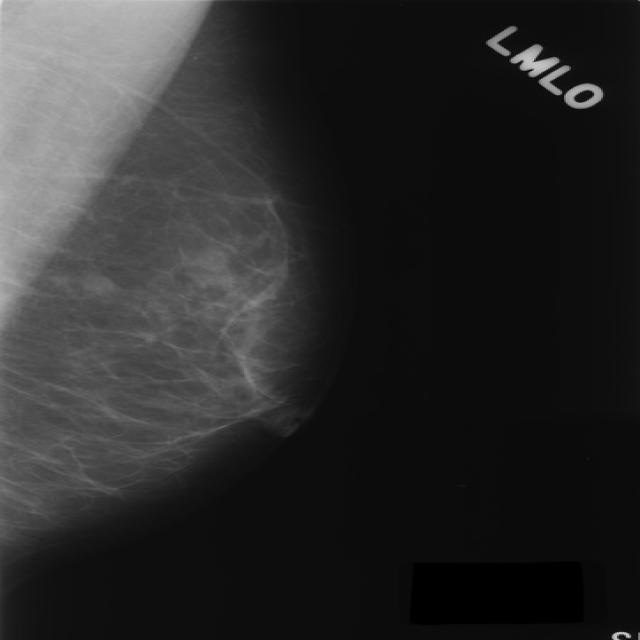tumour: (78, 271, 115, 293)
